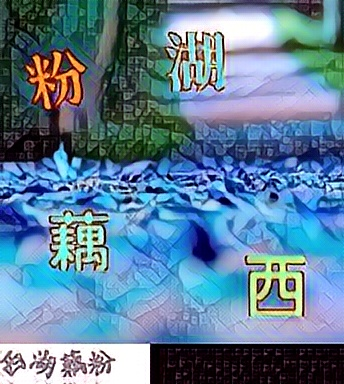B7DB: (25, 45, 88, 111)
BAFE: (164, 28, 227, 94)
C5BA: (47, 206, 110, 272)
CEF7: (244, 252, 307, 318)
